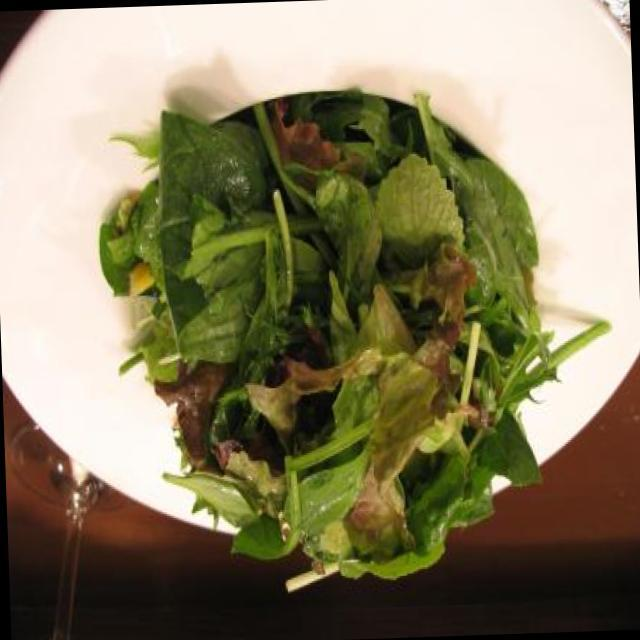Green Salad: (142, 136, 544, 554)
